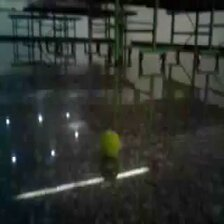tennis: (100, 129, 121, 161)
